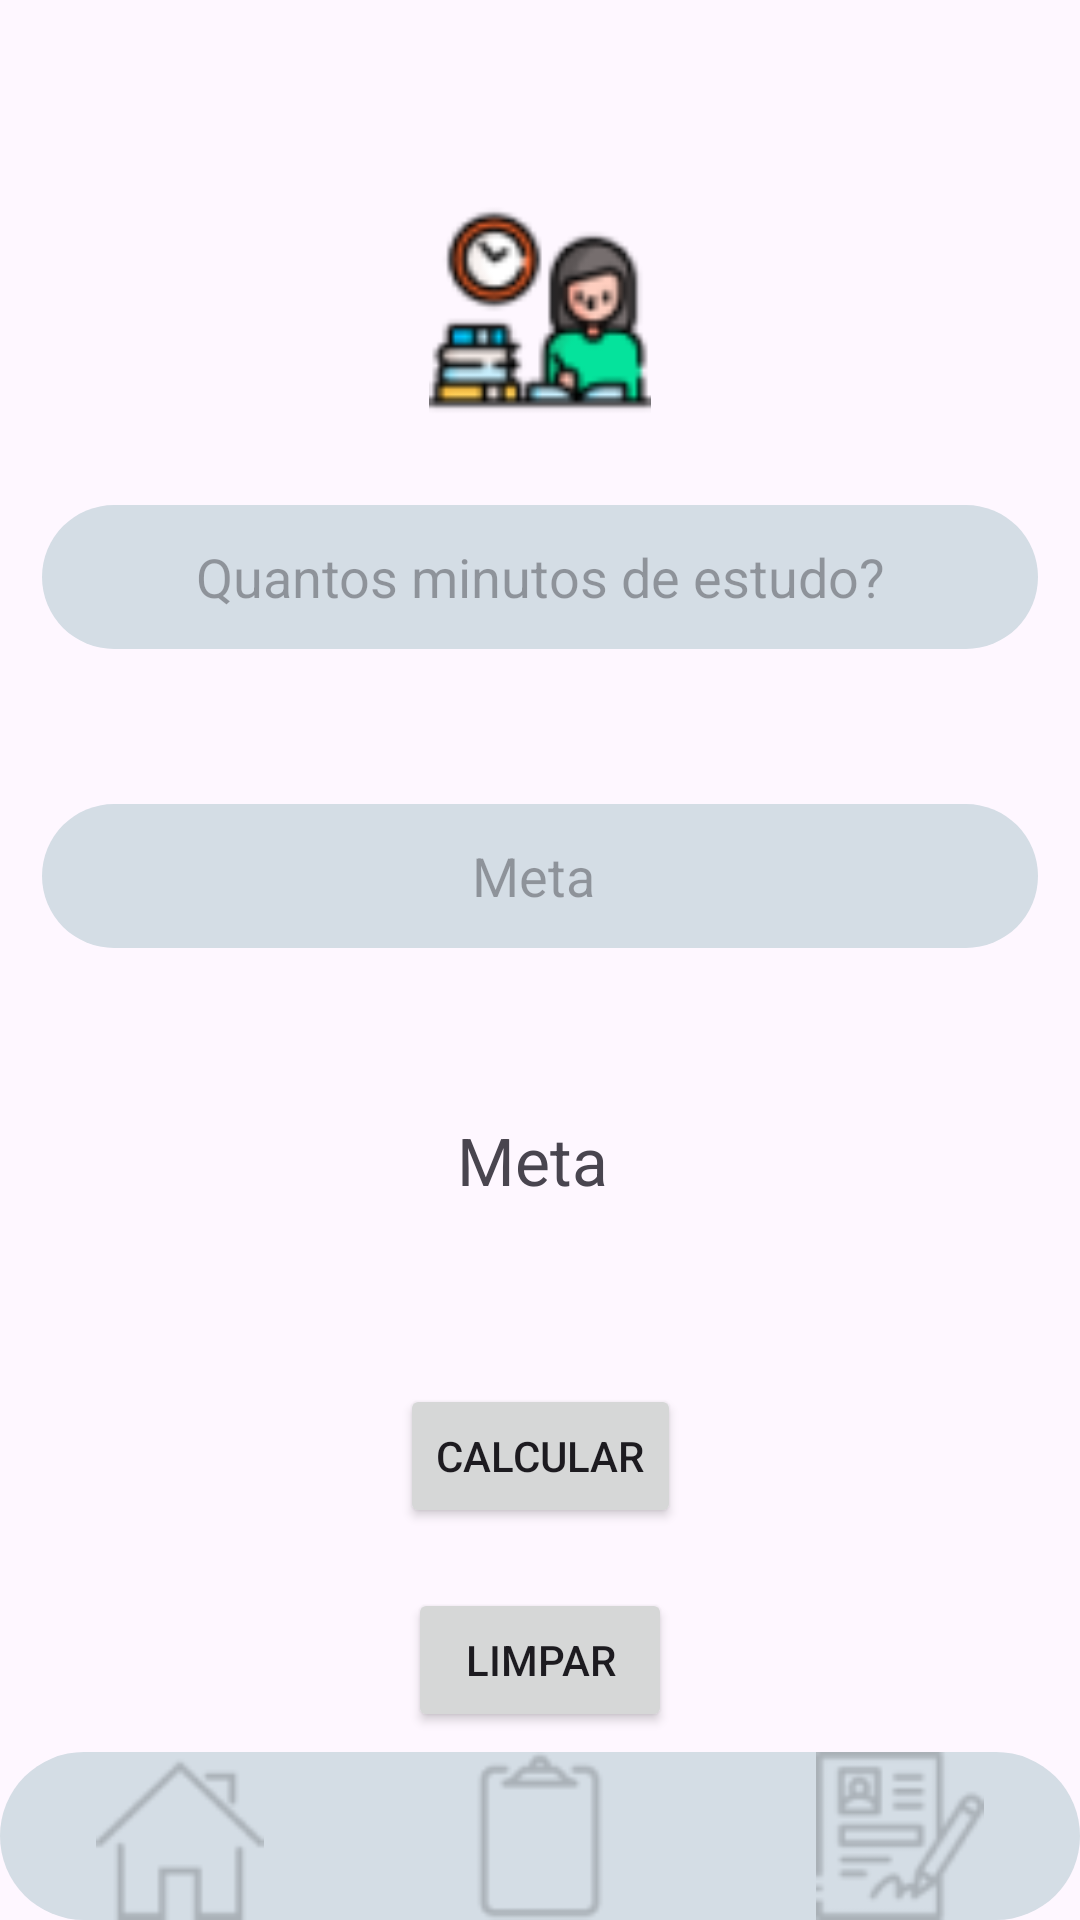

Where icons sit on this 1080px x 1920px app screen, as (x1, y1, x2, y2):
Atividades: (481, 1756, 599, 1916)
Início: (0, 1752, 360, 1920)
Perfil: (720, 1752, 1080, 1920)
study: (429, 211, 651, 409)
